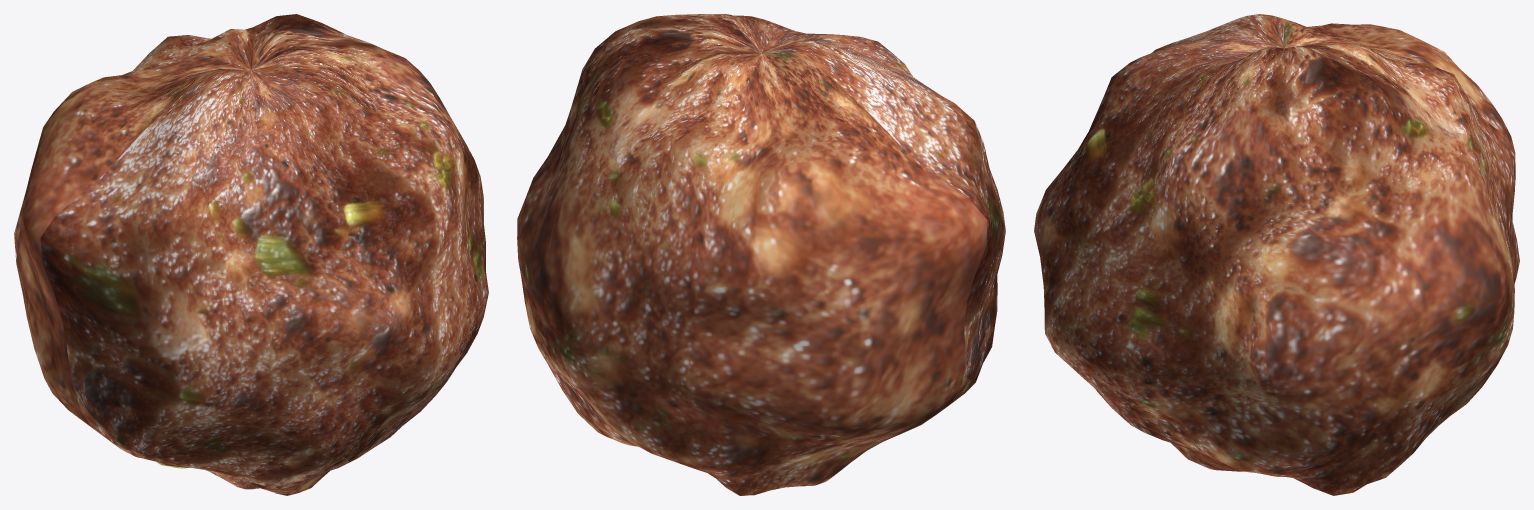
Rendered from meatball.fbx.
3 renders of one model, left to right at view 1: azimuth 30°, elevation 25°; view 2: azimuth 150°, elevation 25°; view 3: azimuth 270°, elevation 25°, orthographic. The views are drawn at different scales.
Visible parts, largest first — view 1: Sphere; view 2: Sphere; view 3: Sphere.
Part boxes in pixels (x1,y1,x2,y2): Sphere: (14, 14, 488, 495); Sphere: (517, 14, 1005, 495); Sphere: (1034, 14, 1519, 495).
Size of the model in its own units: 238 by 226 by 228.
Materials: 1 (1 with a texture image).
